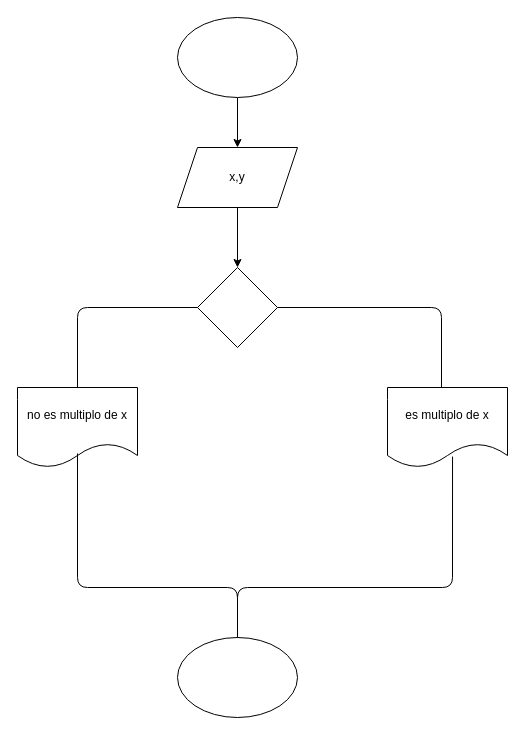
This 525x735 diagram has some shape labels left out. The shapes that lost their labels are listed below. From the top down, each one's centre as x and y in pixels, then its label:
At [237,57]: "inicio".
At [237,307]: "x % y == 0".
